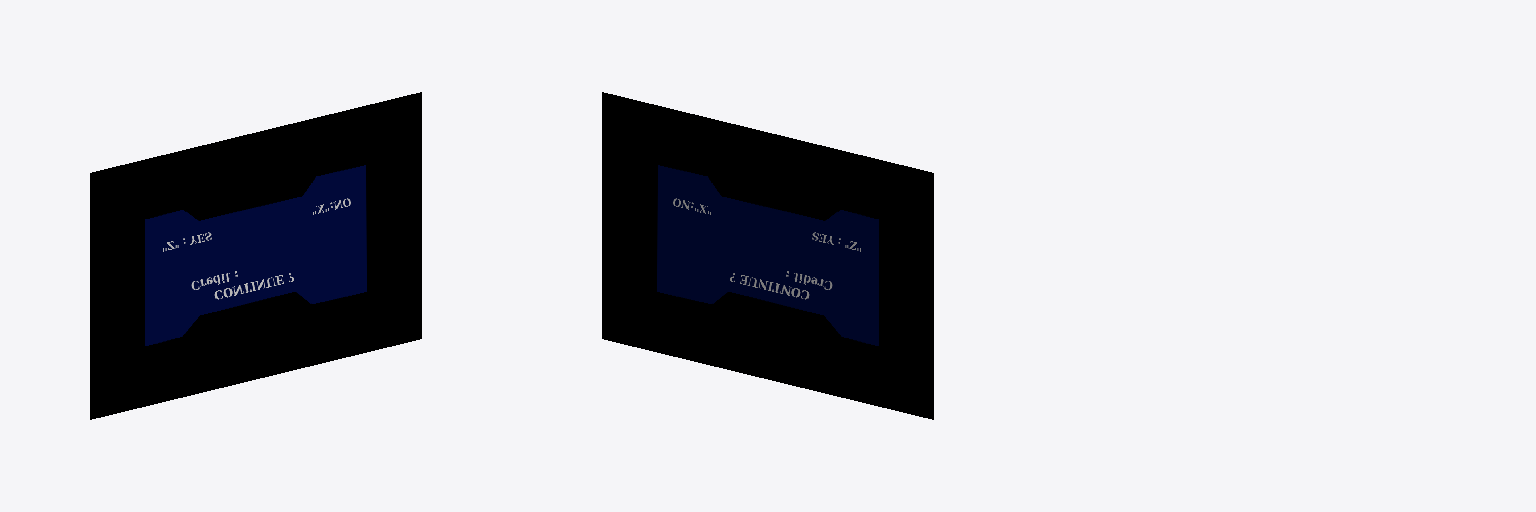
3 renders of one model, left to right at view 1: azimuth 30°, elevation 25°; view 2: azimuth 150°, elevation 25°; view 3: azimuth 270°, elevation 25°, orthographic.
Size of the model in its own units: 2.82 by 2 by 0.
1 materials, 1 textured.